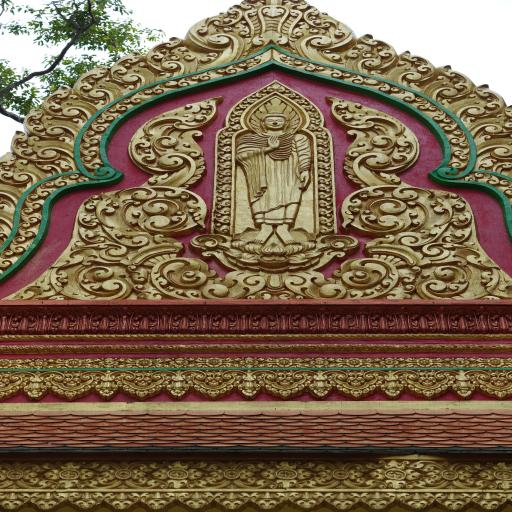hoa: (287, 304, 331, 334), (128, 303, 170, 334), (402, 304, 444, 334), (208, 305, 252, 333), (365, 305, 406, 335), (442, 303, 484, 332), (248, 302, 288, 332), (170, 306, 211, 335), (326, 305, 370, 331), (8, 306, 49, 332), (47, 306, 88, 332), (91, 306, 130, 332), (482, 304, 512, 334), (271, 355, 298, 368), (166, 355, 190, 369), (94, 357, 122, 369), (238, 354, 261, 368), (306, 356, 332, 368), (130, 356, 156, 368), (202, 357, 226, 368), (64, 356, 84, 369), (379, 356, 399, 368), (345, 356, 365, 368), (416, 356, 434, 368), (28, 358, 47, 369), (486, 358, 504, 368), (451, 358, 470, 367), (2, 358, 14, 368)
la: (130, 98, 216, 190), (328, 90, 409, 180), (128, 251, 268, 298), (99, 185, 214, 237), (286, 258, 413, 302), (341, 179, 428, 234), (44, 262, 132, 300), (4, 130, 77, 174), (70, 58, 129, 108), (345, 26, 397, 81), (264, 370, 353, 402), (340, 462, 452, 487), (15, 462, 122, 487), (232, 464, 340, 488), (457, 95, 512, 142), (190, 12, 239, 64), (35, 83, 98, 123), (302, 14, 347, 70), (117, 369, 198, 400), (120, 464, 234, 486), (18, 105, 81, 144), (146, 34, 198, 81), (193, 371, 276, 400), (47, 372, 131, 400), (109, 44, 158, 92), (442, 74, 498, 116), (382, 46, 434, 89), (355, 369, 427, 400), (419, 261, 474, 301), (426, 59, 468, 104), (0, 151, 42, 191), (450, 463, 512, 490), (0, 372, 62, 398), (469, 132, 512, 167), (428, 372, 488, 396), (460, 370, 512, 397), (66, 240, 124, 260), (422, 242, 472, 264), (172, 490, 214, 512), (213, 489, 254, 511), (27, 490, 67, 512), (434, 488, 470, 512), (387, 230, 441, 246), (357, 488, 396, 510), (323, 488, 358, 512), (248, 491, 286, 512), (139, 491, 176, 512), (397, 491, 434, 512), (288, 488, 323, 510), (106, 490, 140, 512), (440, 226, 475, 246), (436, 193, 468, 214), (68, 493, 105, 511), (472, 493, 505, 512), (52, 169, 86, 187), (446, 208, 478, 227), (0, 492, 30, 511), (15, 204, 42, 225), (195, 65, 223, 85), (465, 168, 496, 186), (387, 84, 416, 103), (76, 194, 110, 210), (426, 102, 450, 123), (76, 137, 101, 157), (278, 54, 305, 72), (70, 208, 100, 224), (77, 154, 109, 169), (22, 190, 45, 210), (33, 178, 56, 198), (85, 115, 110, 133), (10, 235, 32, 255), (437, 116, 458, 136), (364, 76, 390, 92), (242, 50, 265, 68), (174, 73, 201, 88), (74, 224, 99, 240), (412, 94, 432, 114), (1, 249, 21, 269), (98, 105, 121, 122), (152, 80, 176, 96), (114, 96, 134, 115), (129, 88, 156, 102), (338, 68, 362, 83), (15, 221, 35, 239), (447, 129, 466, 147), (81, 128, 101, 145), (222, 62, 247, 75), (498, 176, 512, 199), (451, 142, 470, 158), (451, 153, 466, 173)
than: (227, 93, 318, 246)
